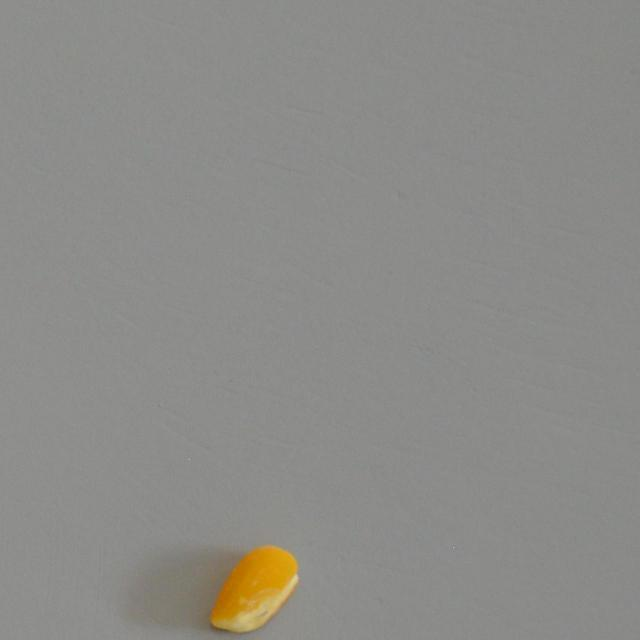punto_negro: (207, 544, 300, 635)
